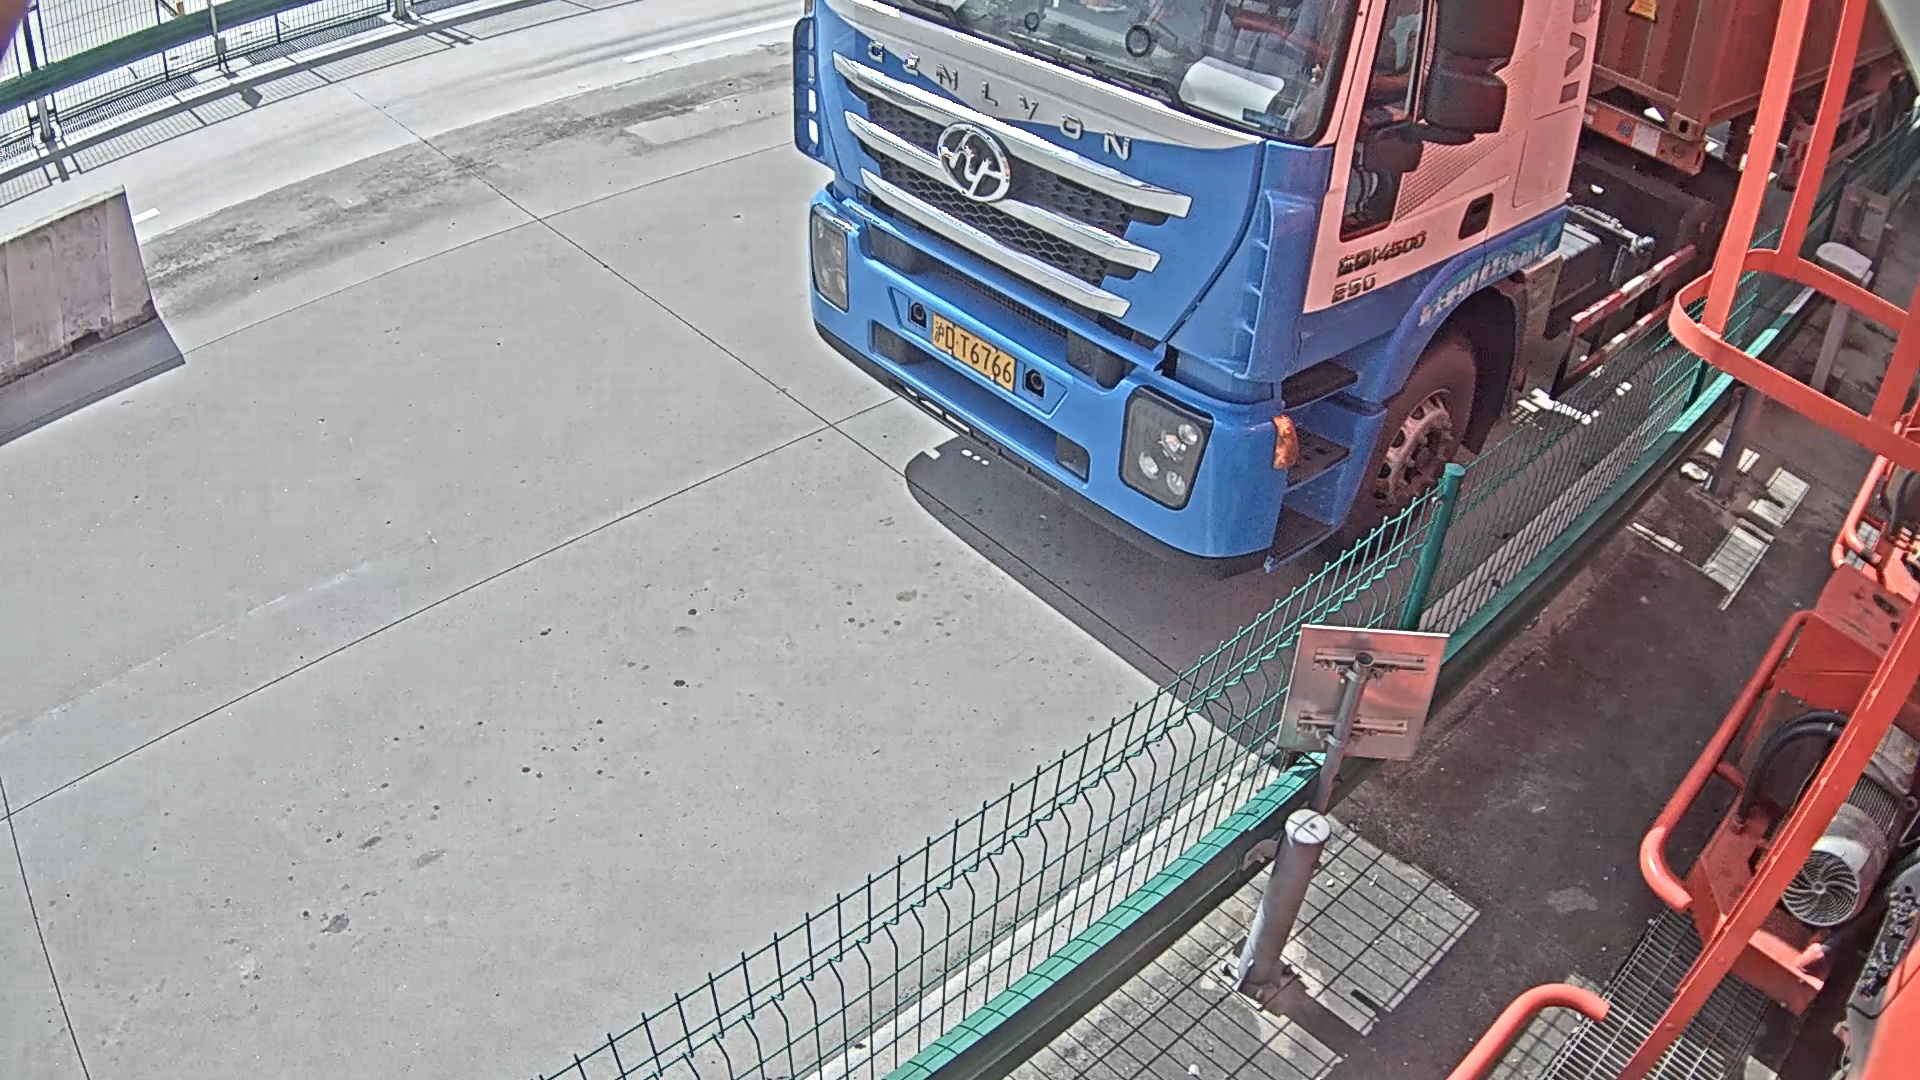head: (791, 1, 1598, 563)
plate: (928, 315, 1016, 385)
